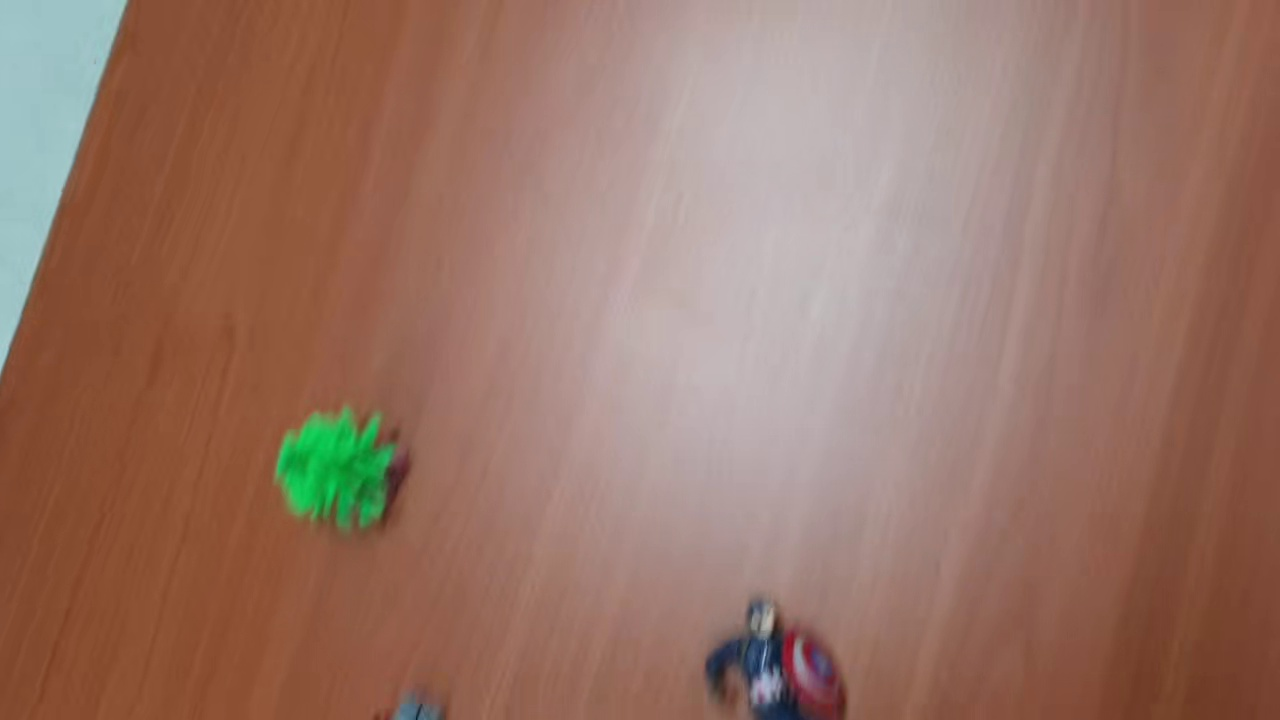people: (701, 595, 850, 720)
tree: (274, 405, 413, 544)
